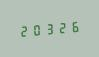six: (66, 18, 77, 34)
three: (42, 20, 53, 36)
two: (18, 22, 29, 38), (54, 19, 65, 35)
zero: (30, 21, 41, 37)
